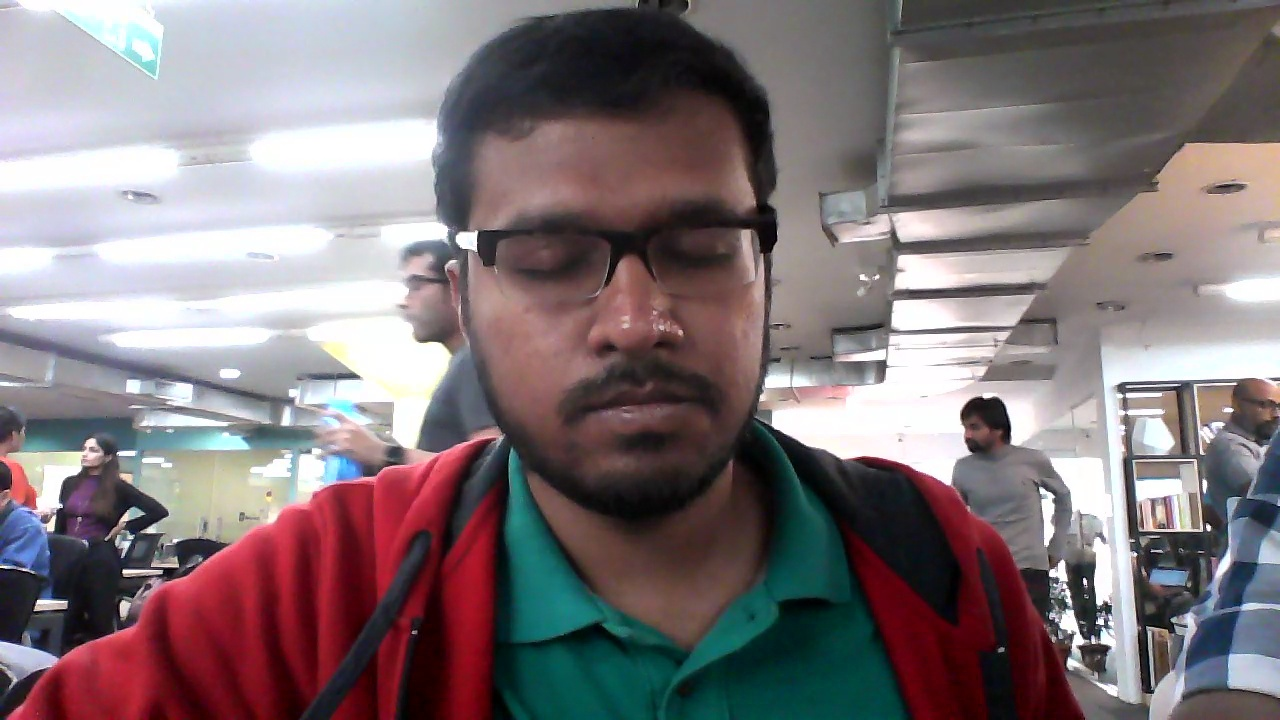closed: (437, 17, 790, 521)
